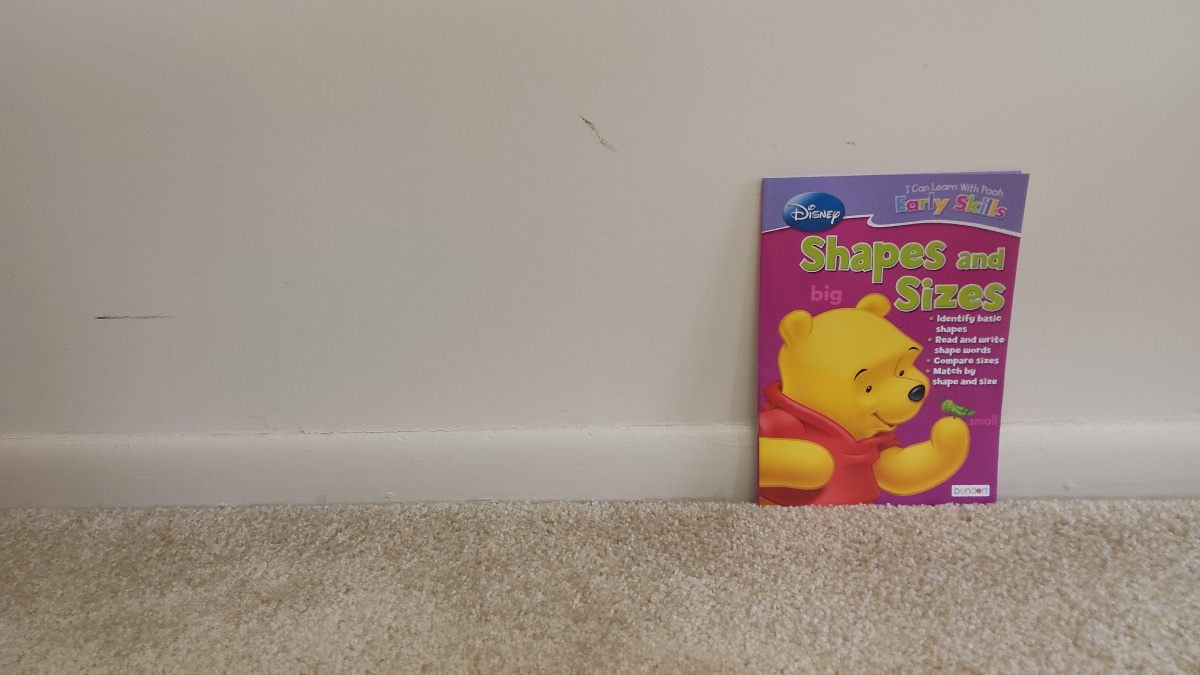book: (765, 177, 1002, 505)
